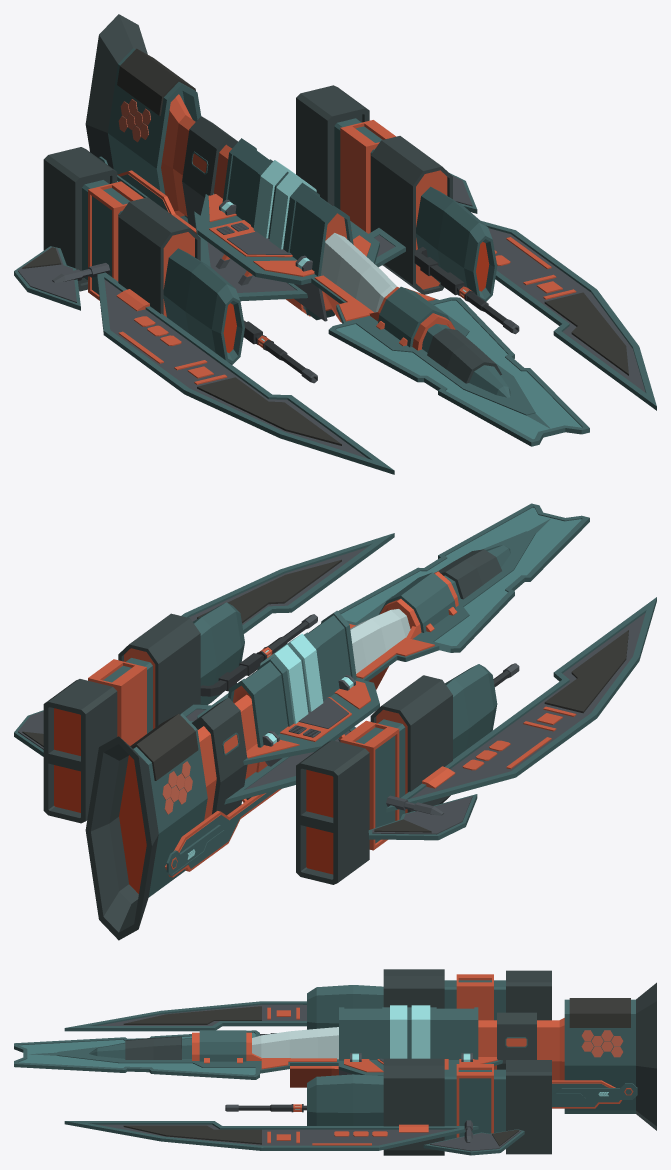
File: TP_Sci-fi07.fbx
3 views of the same model, one above another, from view 1: azimuth 30°, elevation 25°; view 2: azimuth 150°, elevation 25°; view 3: azimuth 270°, elevation 25° (orthographic). The views are drawn at different scales.
Visible parts, largest first — view 1: TP_Sci_fi07; view 2: TP_Sci_fi07; view 3: TP_Sci_fi07.
Boxes of the visible parts, left/top/right/bottom form: TP_Sci_fi07: left=14, top=14, right=656, bottom=474; TP_Sci_fi07: left=14, top=503, right=656, bottom=940; TP_Sci_fi07: left=14, top=969, right=656, bottom=1155.
Size of the model in its own units: 317 by 141 by 555.
1 material, 1 textured.
